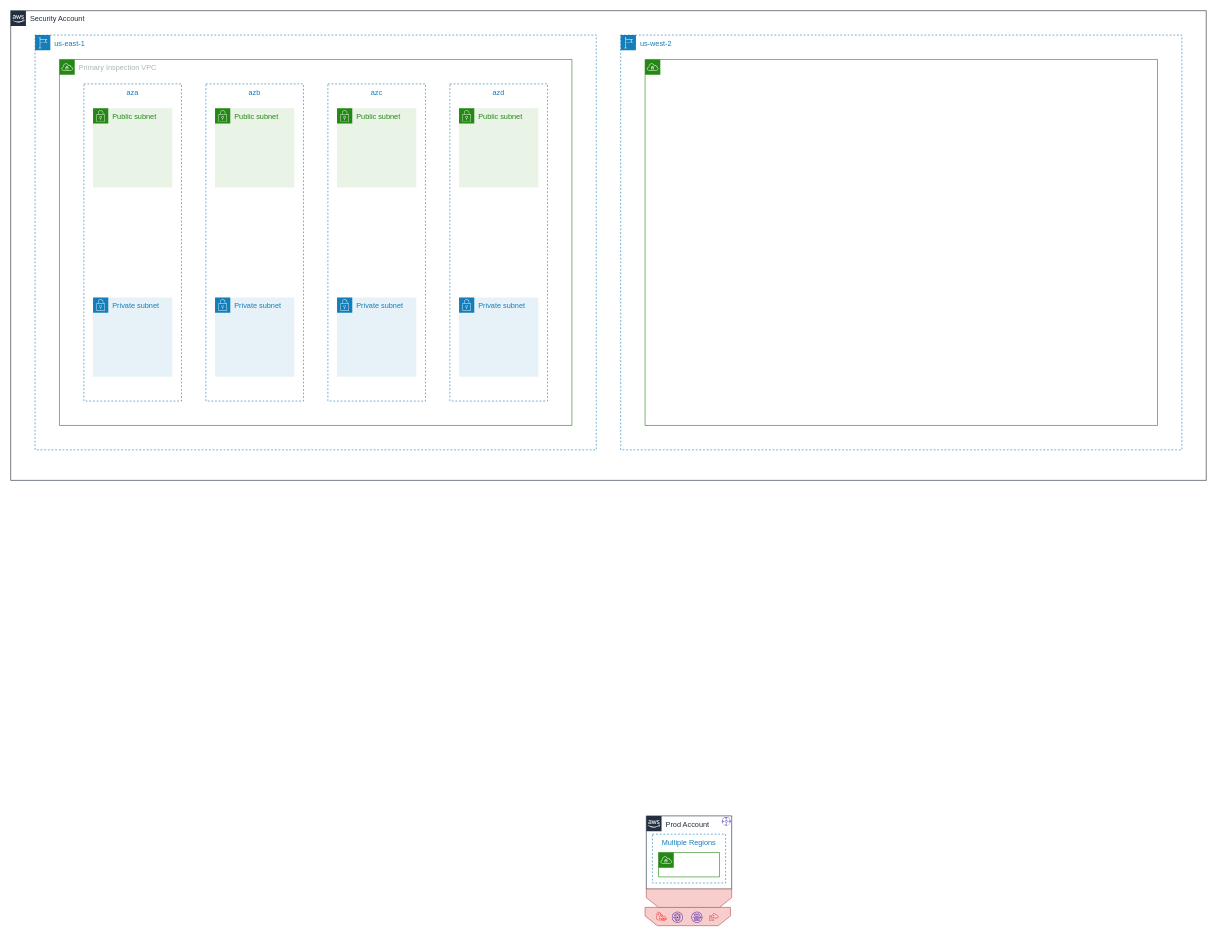
Image size: 1217x936. Some labels were removed from this diagram. The shapes that lost their labels are listed below. From the top down, each one's centre as x and y in pixels, then its label:
[900,242]: Secondary Inspection VPC
[688,864]: VPC
[689,897]: Interos Prod app - customer facing
